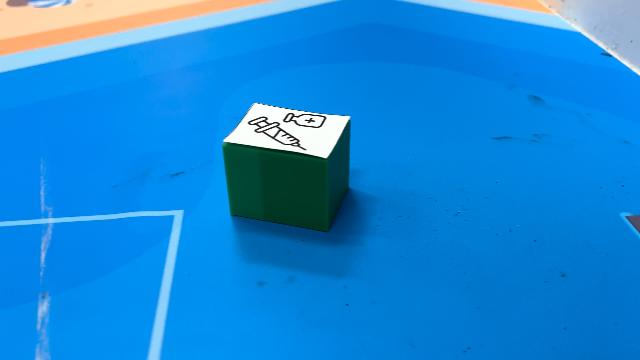syringe: (221, 102, 351, 232)
